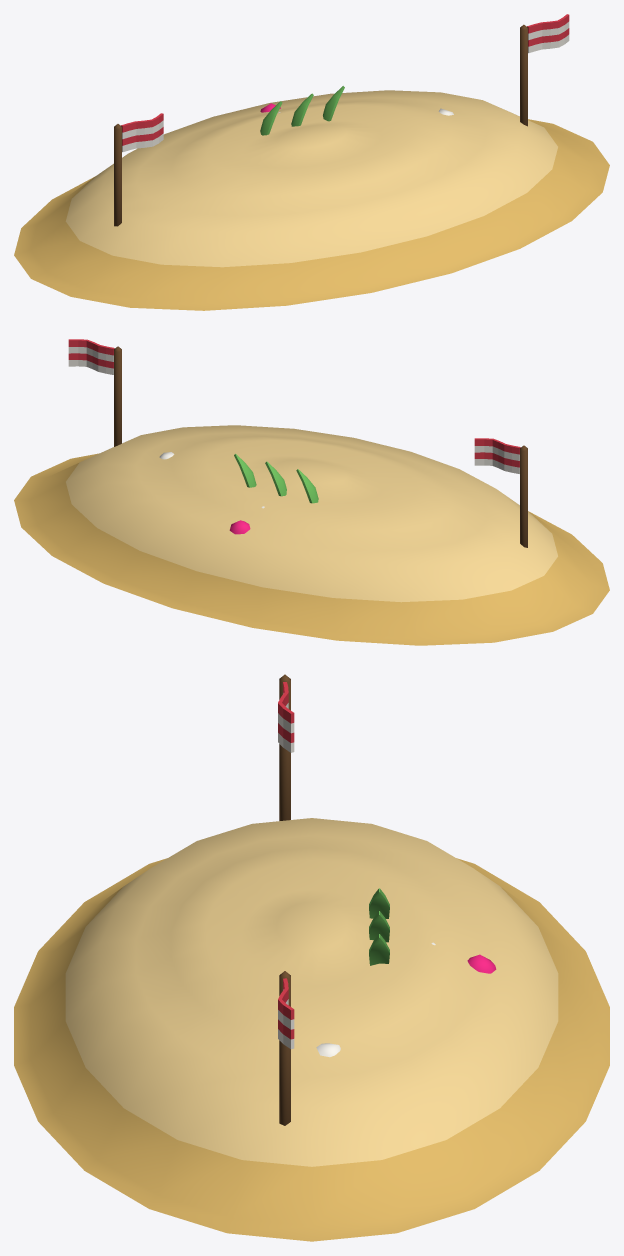
Rendered from H11_Sandbar.fbx.
3 renders of one model, top to bottom at view 1: azimuth 30°, elevation 25°; view 2: azimuth 150°, elevation 25°; view 3: azimuth 270°, elevation 25°, orthographic. The views are drawn at different scales.
Visible parts, largest first — view 1: H11_Sandbar; view 2: H11_Sandbar; view 3: H11_Sandbar.
Part boxes in pixels (x1,y1,x2,y2): H11_Sandbar: (14, 14, 609, 310); H11_Sandbar: (14, 339, 609, 645); H11_Sandbar: (14, 674, 609, 1241).
Bounding box in the file's own units: 7.2 × 1.75 × 4.42.
